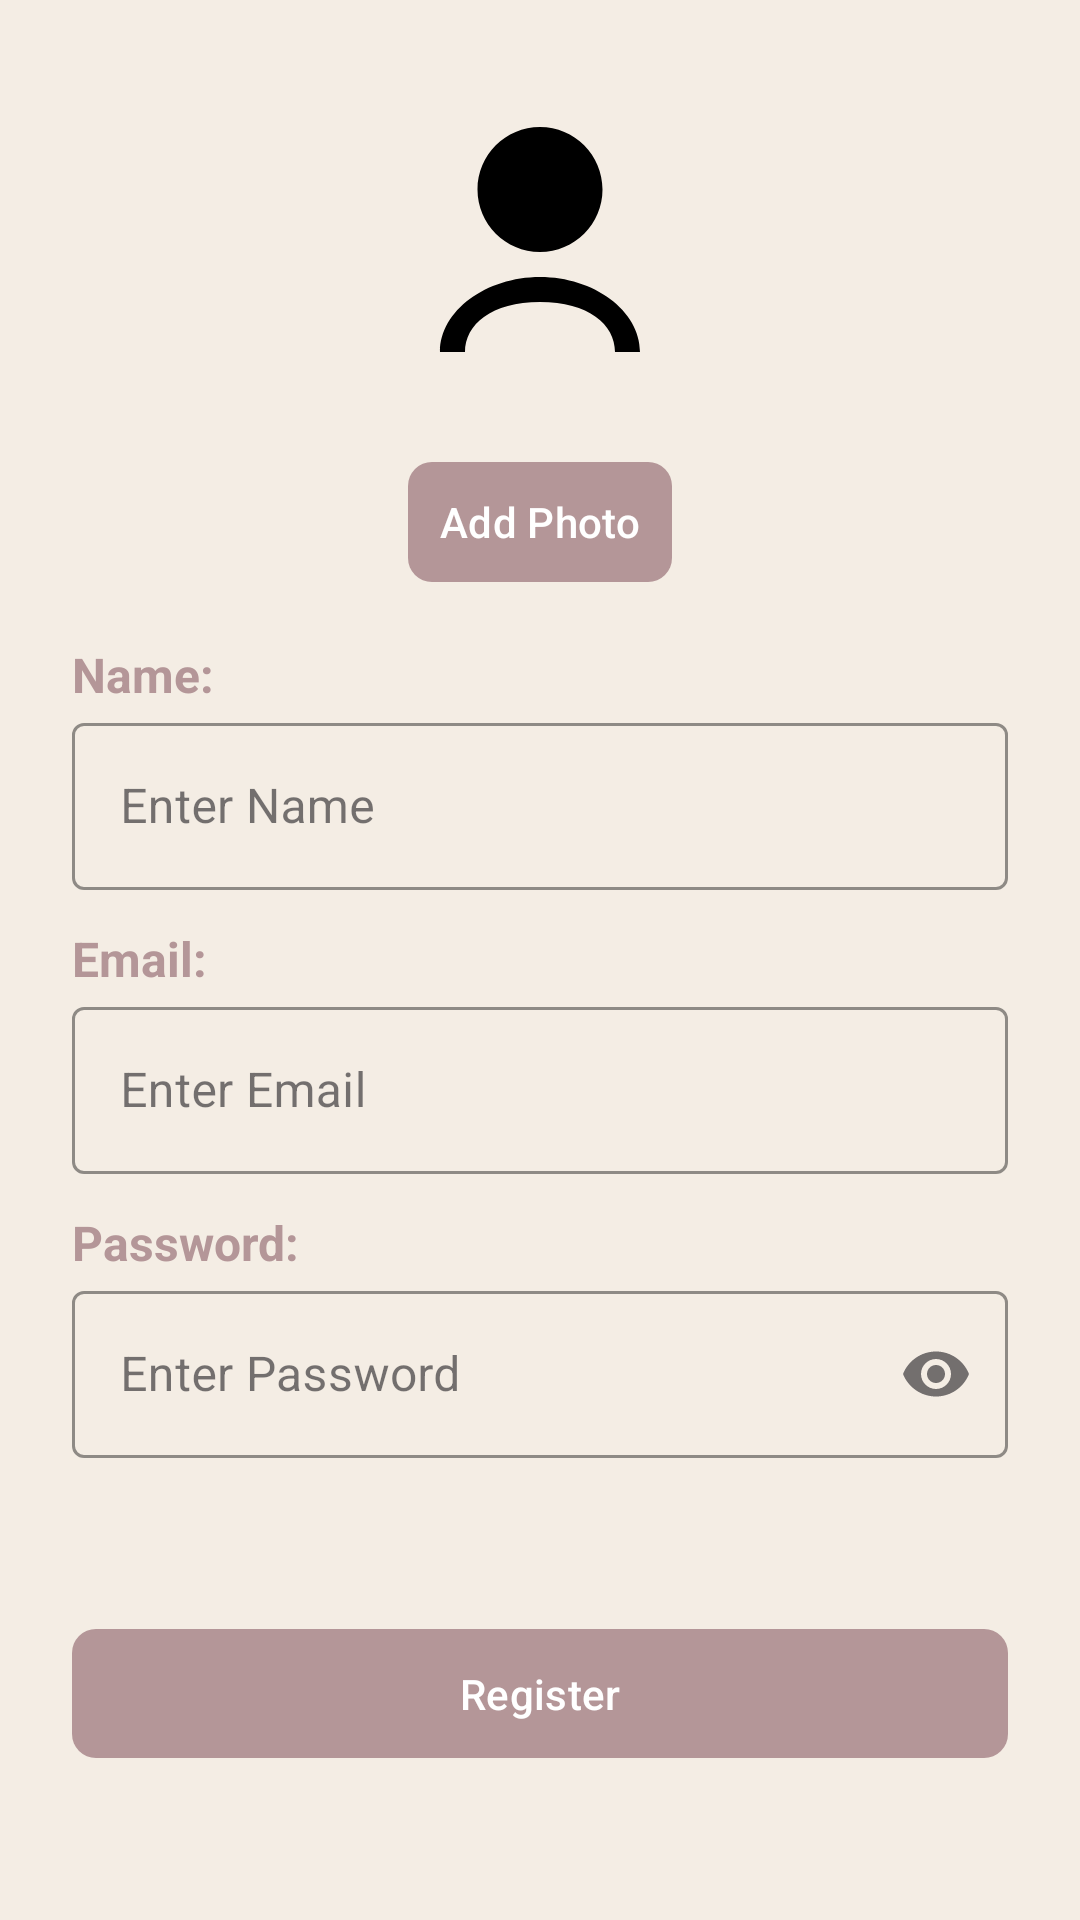

Screen size 1080 x 1920. Icon name, then its box in pixels as [x1, y1, x2, y2]:
profile: [440, 127, 640, 352]
